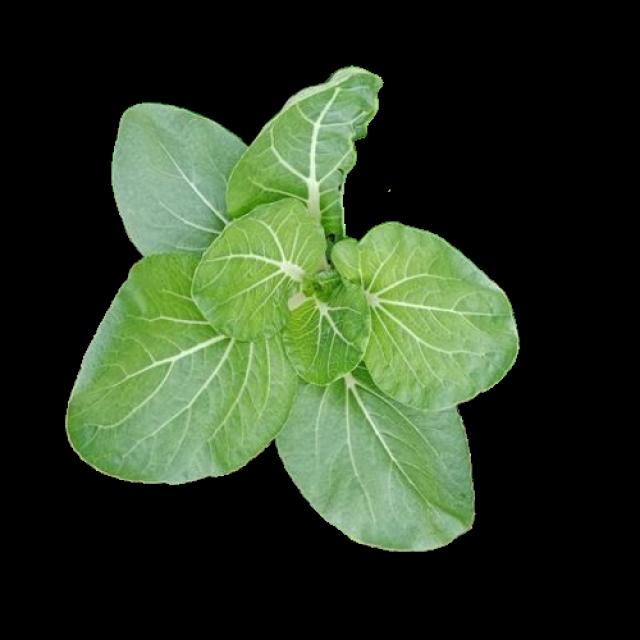mature: (66, 66, 514, 550)
unhealthy: (226, 70, 382, 238)
